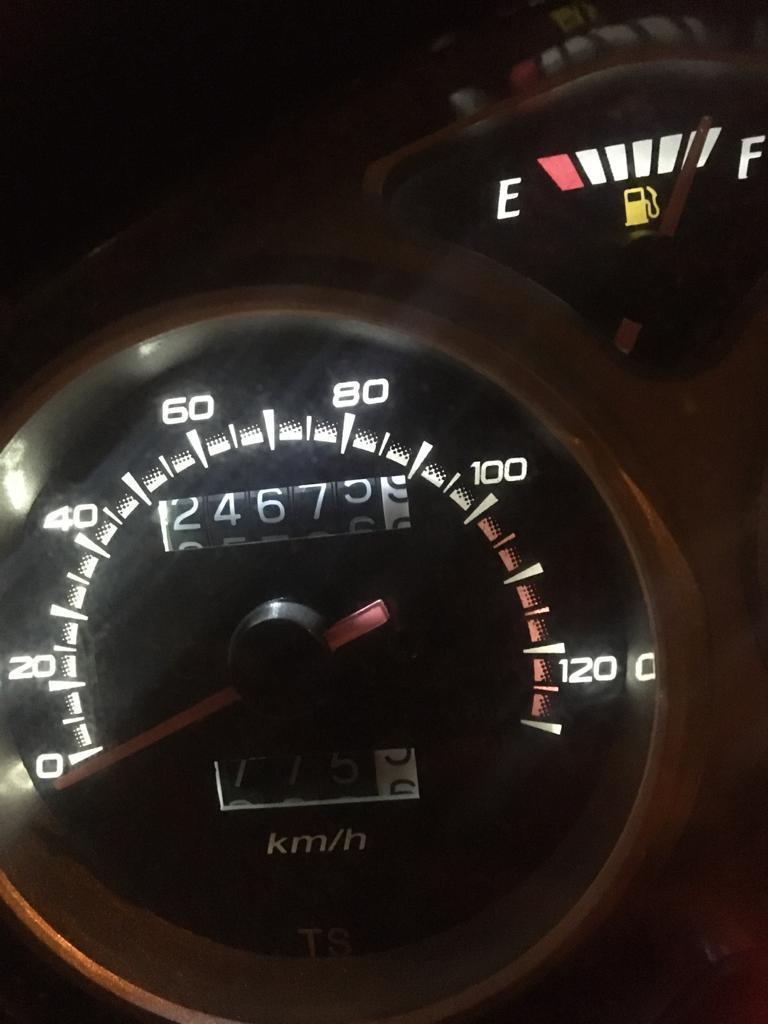2: (170, 496, 201, 532)
4: (212, 491, 242, 527)
5: (342, 468, 373, 505)
6: (255, 486, 285, 524)
7: (298, 480, 328, 520)
9: (387, 468, 413, 502)
odometer: (156, 473, 414, 554)
